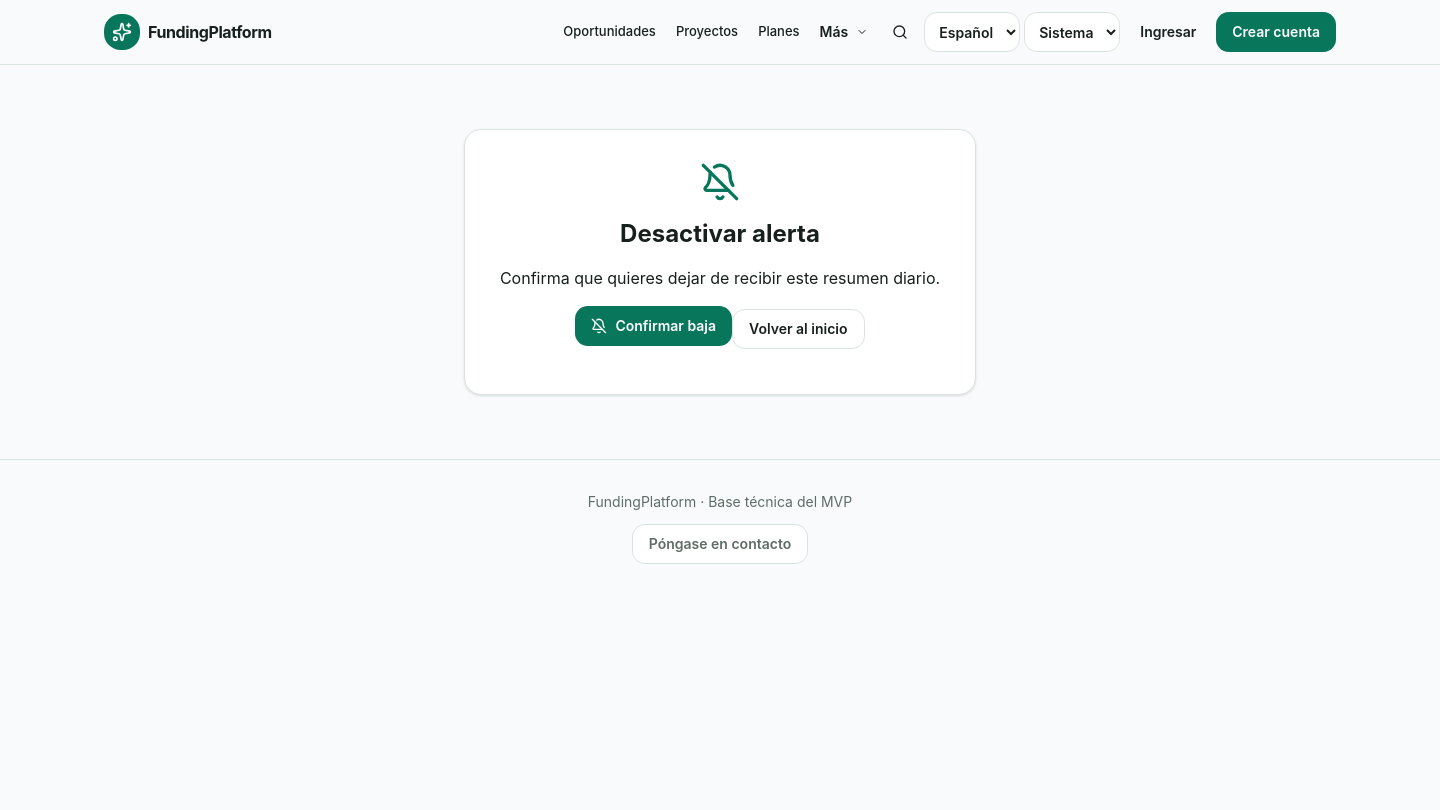
Test: búsquedas guardadas y alertas › exige confirmación y procesa la baja por POST sin revelar si el token existía
Expected: the text "Confirma que quieres dejar de recibir este resumen diario." is shown, [497,266,943,290]
Click the button "Confirmar baja" at x=654, y=326, box [575,306,732,346]
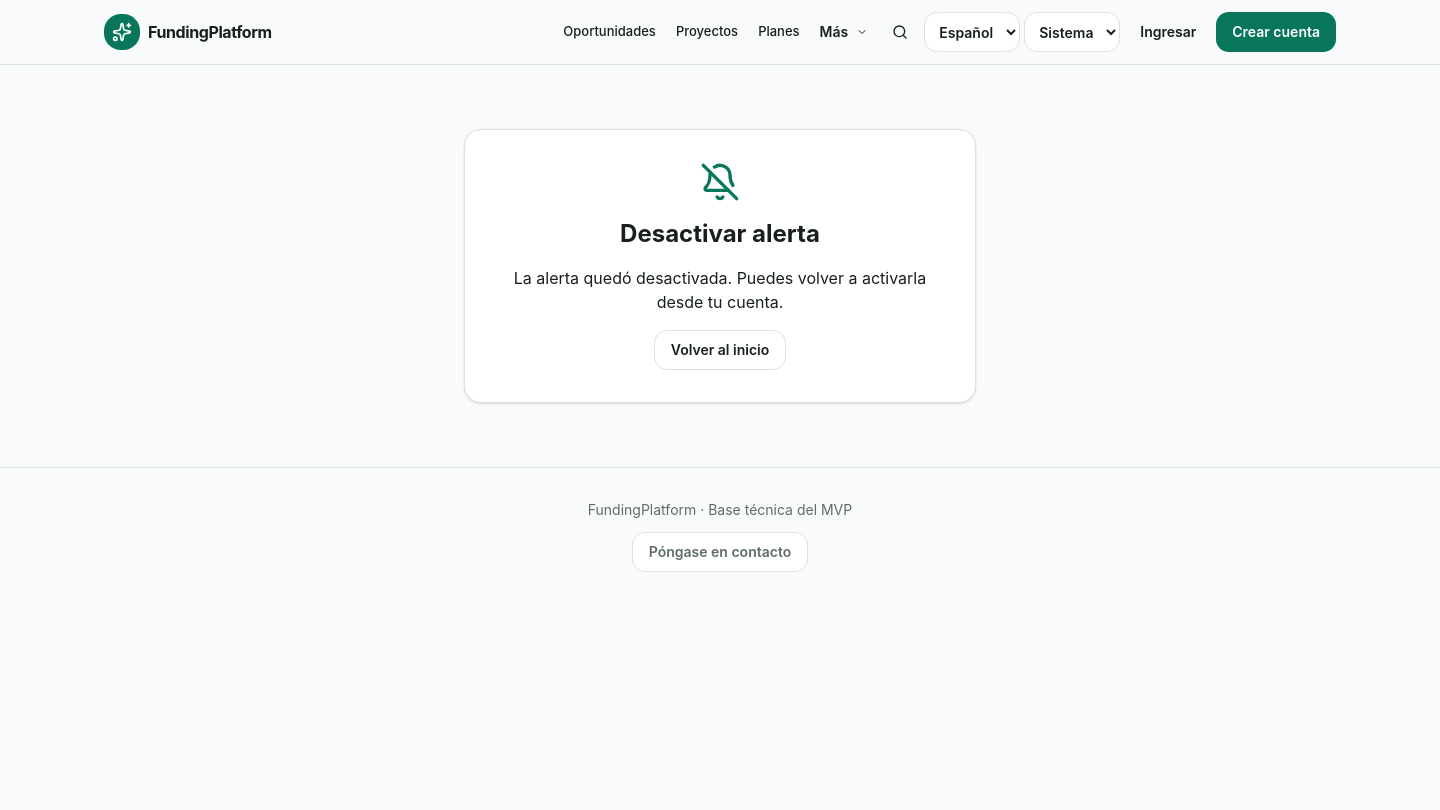
Now the text "La alerta quedó desactivada" is shown, box [514,268,926,312]
